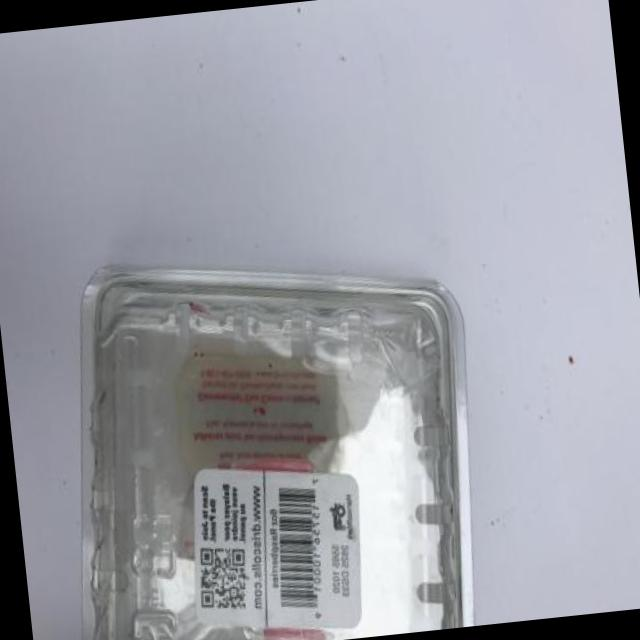Clamshell: (0, 211, 517, 640)
Label: (158, 318, 381, 640)
